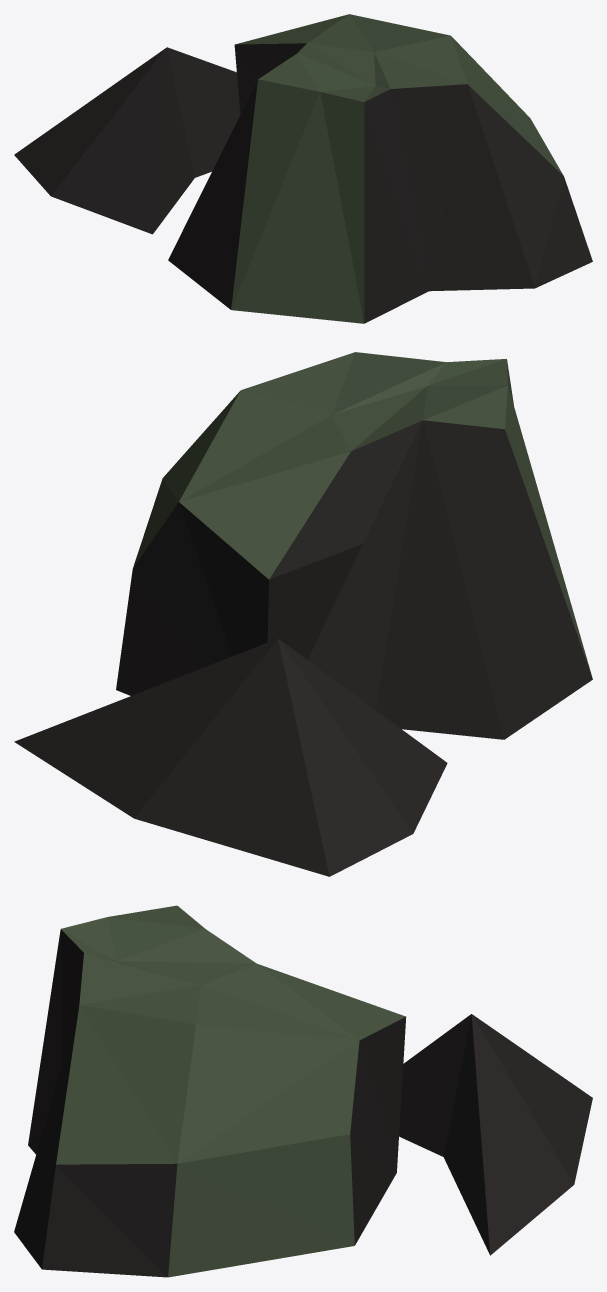
Rendered from obj_mossy_rock_6_0.obj.
3 renders of one model, top to bottom at view 1: azimuth 30°, elevation 25°; view 2: azimuth 150°, elevation 25°; view 3: azimuth 270°, elevation 25°, orthographic. The views are drawn at different scales.
Size of the model in its own units: 0.7422 by 0.4141 by 0.9688.
